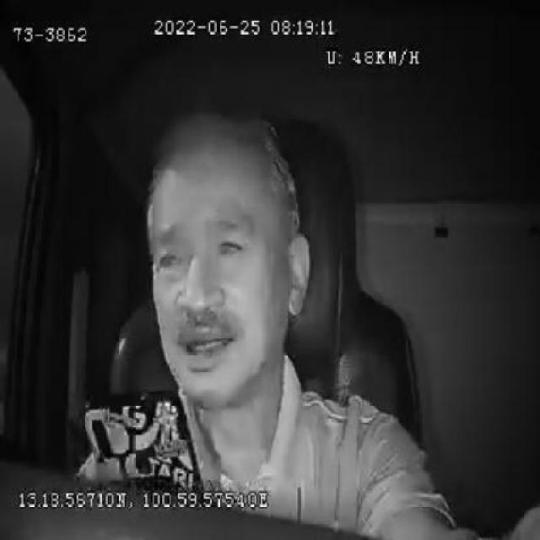phone: (78, 389, 205, 489)
